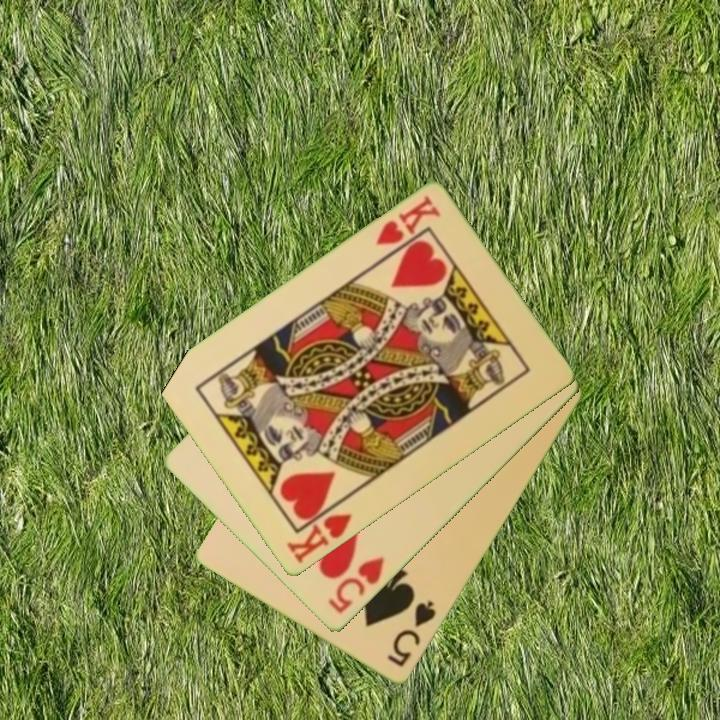5h: (324, 554, 387, 618)
5s: (383, 597, 439, 671)
Kh: (283, 496, 355, 567), (372, 193, 444, 249)
